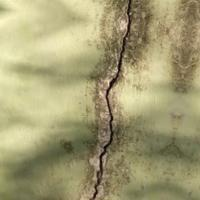crack: (80, 0, 158, 199)
